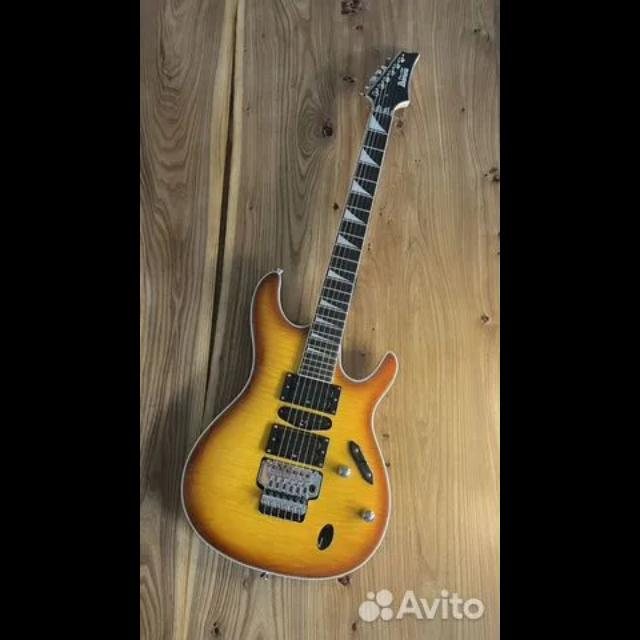Electric-Guitar: (184, 51, 422, 579)
